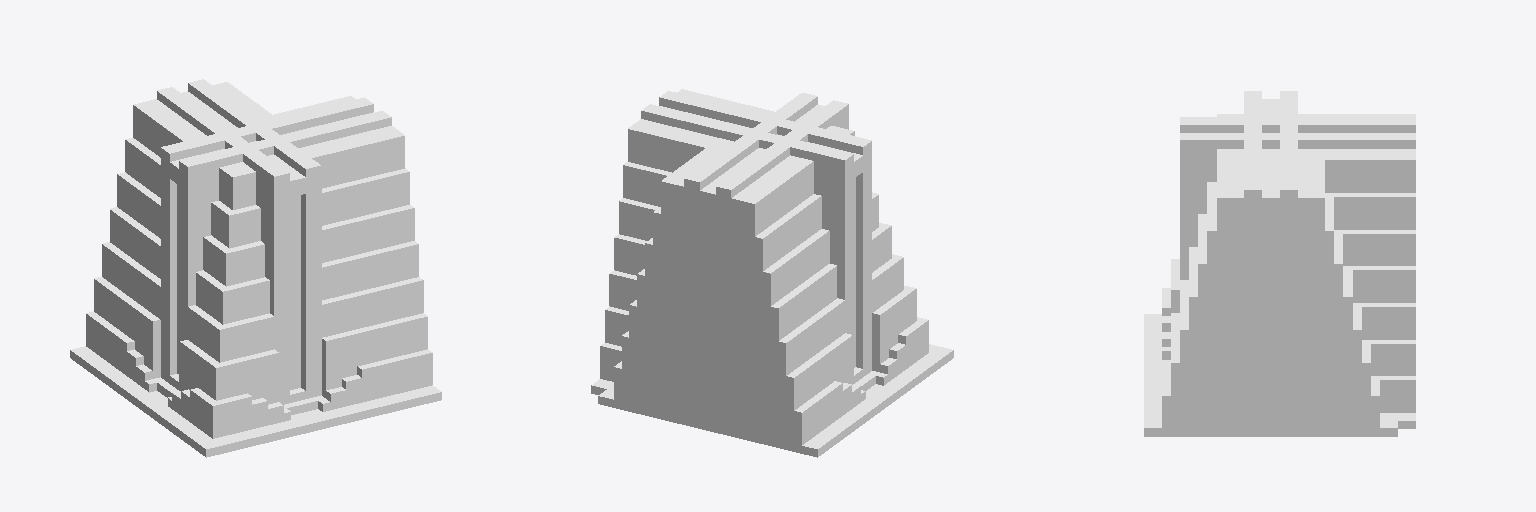
Rendered from wallCorner.obj.
The picture shows the model from 3 angles: view 1: azimuth 30°, elevation 25°; view 2: azimuth 150°, elevation 25°; view 3: azimuth 270°, elevation 25°; orthographic projection.
Visible parts, largest first — view 1: object 1; view 2: object 1; view 3: object 1.
Boxes of the visible parts, x1=… form: object 1: x1=70, y1=79, x2=441, y2=457; object 1: x1=591, y1=89, x2=953, y2=457; object 1: x1=1144, y1=91, x2=1415, y2=436.
Bounding box in the file's own units: 3 × 3 × 3.